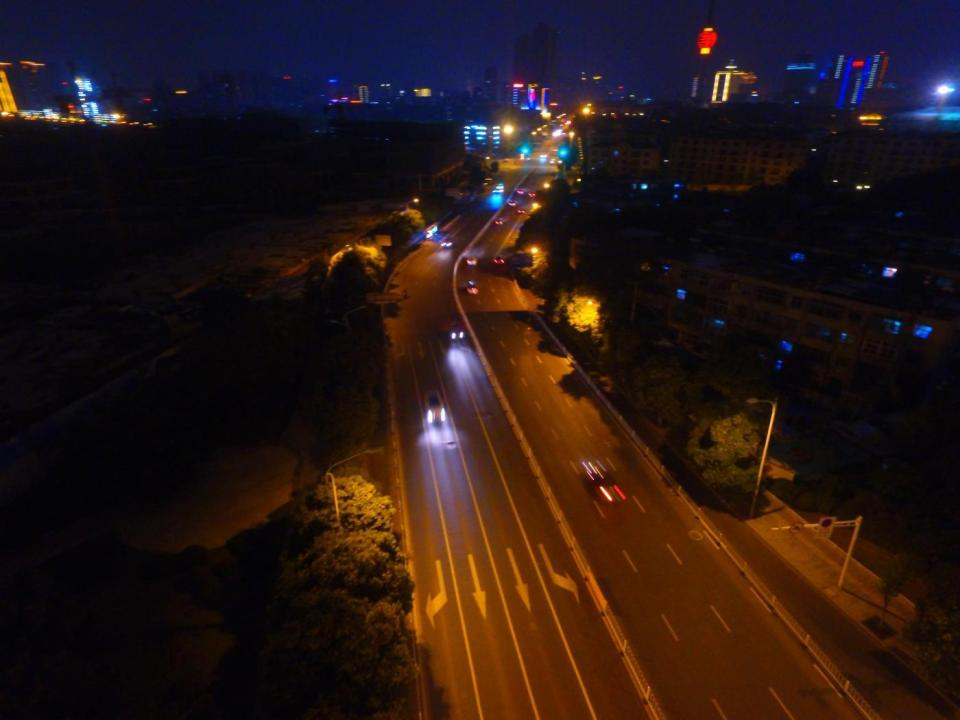car: (583, 460, 625, 506), (422, 388, 444, 423), (446, 322, 463, 341), (438, 238, 456, 249), (466, 280, 478, 295), (466, 254, 478, 268), (494, 255, 506, 266), (494, 216, 505, 226), (492, 185, 504, 194), (516, 207, 527, 216), (527, 190, 538, 199), (516, 187, 524, 195), (508, 199, 516, 206)
